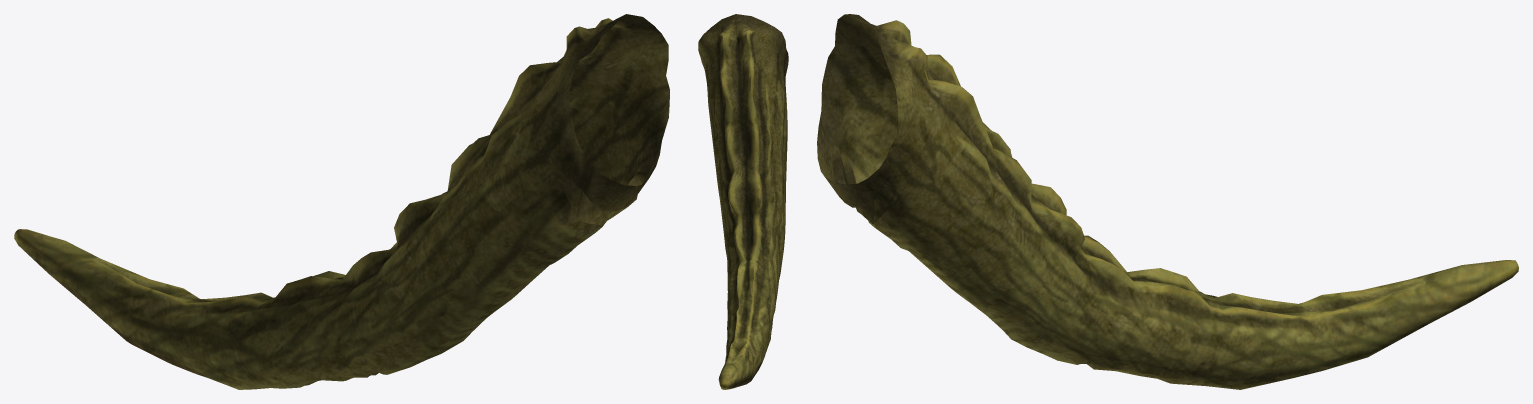
Rendered from tall.fbx.
3 views of the same model, side by side, from view 1: azimuth 30°, elevation 25°; view 2: azimuth 150°, elevation 25°; view 3: azimuth 270°, elevation 25° (orthographic). The views are drawn at different scales.
Visible parts, largest first — view 1: polySurface144; view 2: polySurface144; view 3: polySurface144.
Part boxes in pixels (x1=…): polySurface144: x1=14, y1=14, x2=669, y2=389; polySurface144: x1=698, y1=14, x2=788, y2=389; polySurface144: x1=817, y1=14, x2=1518, y2=389.
Bounding box in the file's own units: 11.1 × 13.58 × 18.59.
1 material, 1 textured.
